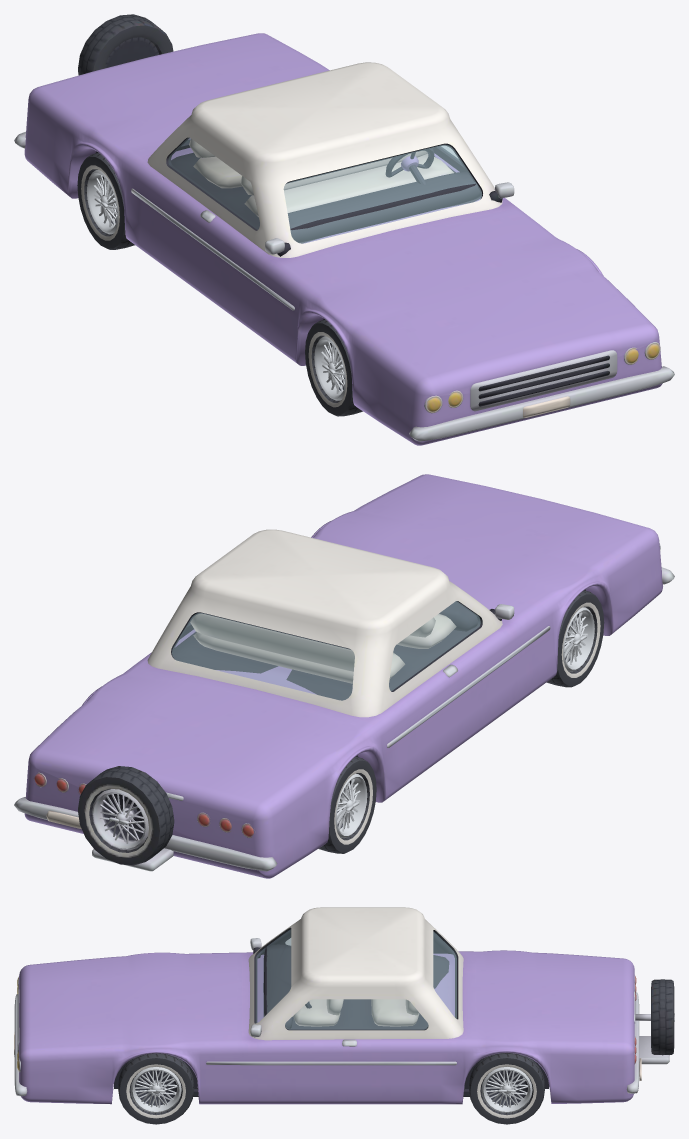
The model's file is lowrider.glb.
The picture shows the model from 3 angles, top to bottom: view 1: azimuth 30°, elevation 25°; view 2: azimuth 150°, elevation 25°; view 3: azimuth 270°, elevation 25°; orthographic projection. The views are drawn at different scales.
Visible parts, largest first — view 1: lowrider_body, lowrider_windows, lowrider_wheel_rr, lowrider_wheel_fr; view 2: lowrider_body, lowrider_windows, lowrider_wheel_rr, lowrider_wheel_fr; view 3: lowrider_body, lowrider_windows, lowrider_wheel_rl, lowrider_wheel_fl.
Boxes of the visible parts, x1,y1,x2,y2 form: lowrider_body: (14, 14, 674, 445); lowrider_windows: (168, 138, 481, 243); lowrider_wheel_rr: (77, 152, 134, 249); lowrider_wheel_fr: (305, 319, 362, 416); lowrider_body: (14, 474, 674, 878); lowrider_windows: (172, 601, 480, 700); lowrider_wheel_rr: (318, 756, 376, 853); lowrider_wheel_fr: (546, 590, 604, 687); lowrider_body: (14, 907, 674, 1104); lowrider_windows: (256, 929, 456, 1029); lowrider_wheel_rl: (468, 1053, 545, 1124); lowrider_wheel_fl: (118, 1053, 194, 1124).
Size of the model in its own units: 2.02 by 1.3 by 5.69.
22 materials, 5 textured.
